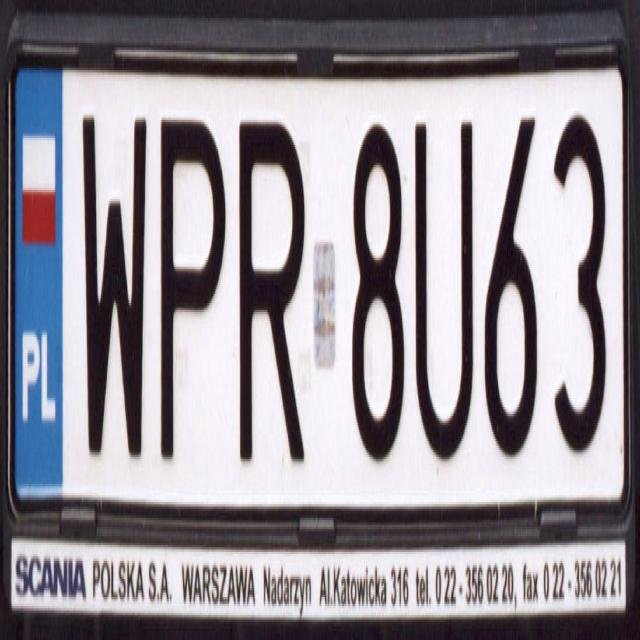pl_license_plate: (15, 63, 623, 500)
